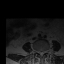CCS_normal: (40, 49, 42, 59)
LFS_normal: (44, 48, 46, 55)
LLS_normal: (42, 49, 44, 56)
RFS_stenosis: (36, 48, 38, 55)
RLS_normal: (38, 48, 40, 56)
